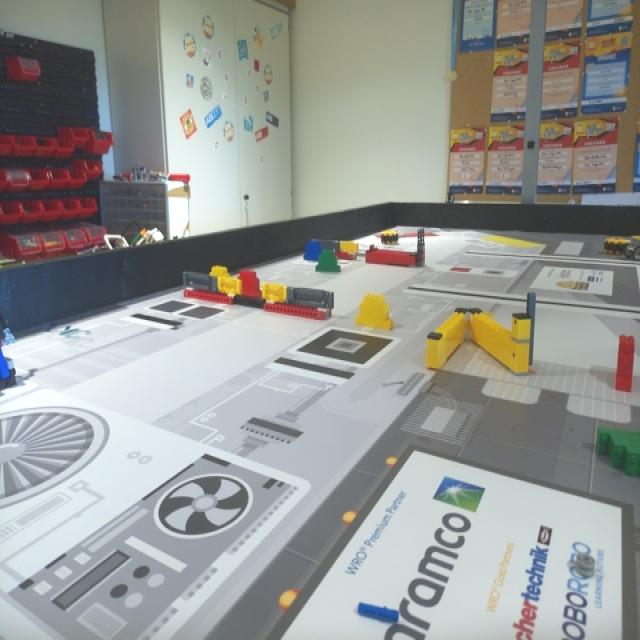blau: (304, 243, 320, 260)
gruen: (597, 428, 640, 476), (319, 252, 341, 274)
rot: (616, 330, 636, 389), (238, 271, 260, 296)
yellow: (358, 294, 393, 330), (210, 266, 228, 277)
